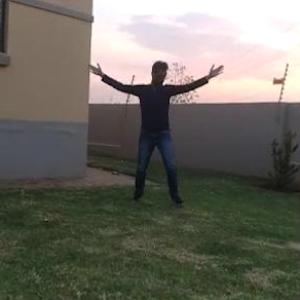takeoff: (89, 62, 220, 206)
